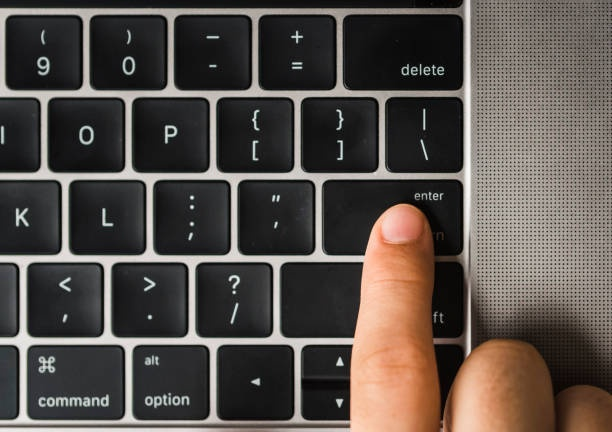keyboard: (1, 7, 469, 423)
